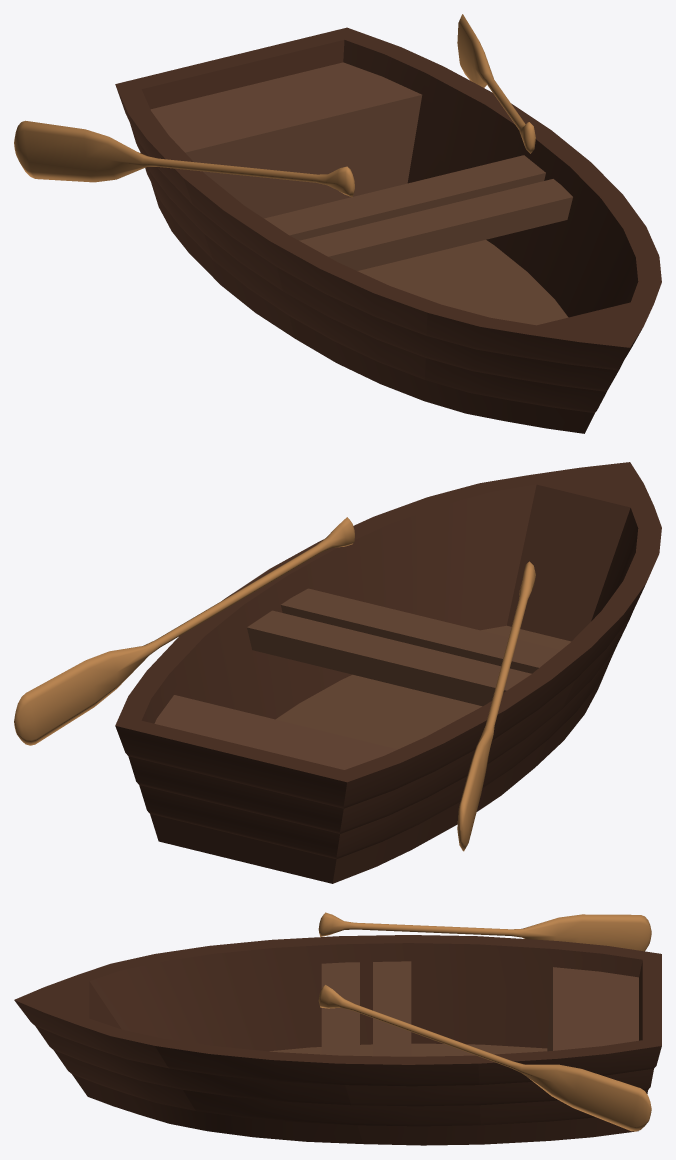
3 renders of one model, top to bottom at view 1: azimuth 30°, elevation 25°; view 2: azimuth 150°, elevation 25°; view 3: azimuth 270°, elevation 25°, orthographic. The views are drawn at different scales.
Parts seen in each view (by area): view 1: RowBoat, RowBoatSeat, RowBoatPaddles; view 2: RowBoat, RowBoatSeat, RowBoatPaddles; view 3: RowBoat, RowBoatPaddles, RowBoatSeat.
Boxes of the visible parts, bbox=[...] form: RowBoat: bbox=[115, 27, 661, 433]; RowBoatSeat: bbox=[264, 155, 572, 270]; RowBoatPaddles: bbox=[14, 14, 535, 197]; RowBoat: bbox=[115, 462, 661, 883]; RowBoatSeat: bbox=[247, 588, 560, 706]; RowBoatPaddles: bbox=[14, 517, 535, 851]; RowBoat: bbox=[14, 935, 661, 1145]; RowBoatPaddles: bbox=[318, 912, 651, 1131]; RowBoatSeat: bbox=[321, 961, 411, 1056].
Size of what is drawn, in the model's own units: 2.19 by 0.8507 by 3.37.
Materials: 1 (1 with a texture image).
